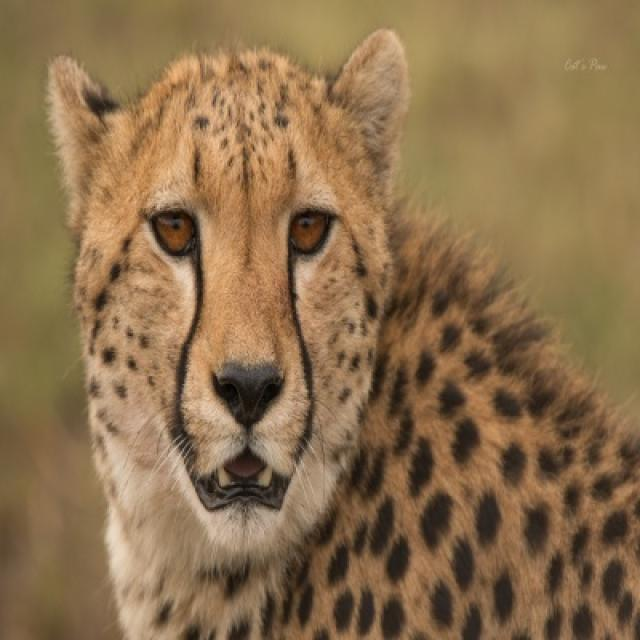Cheetah: (45, 29, 638, 638)
